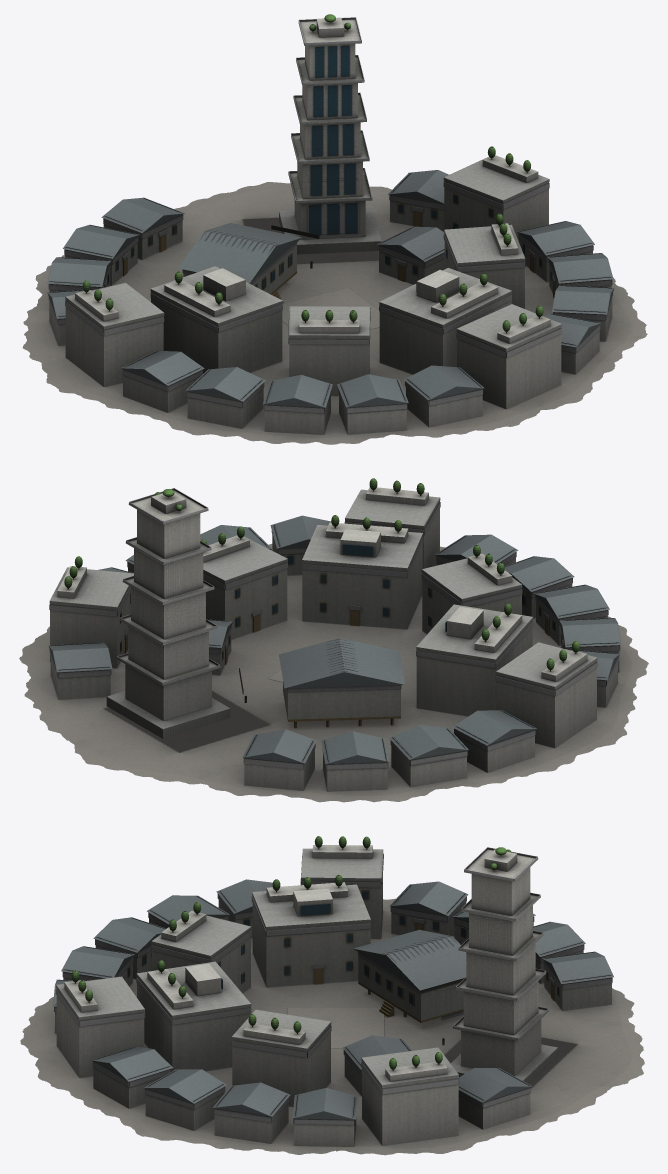
The model's file is modern-town-big-b-monsoon-b72644c4.glb.
The picture shows the model from 3 angles, top to bottom: view 1: azimuth 30°, elevation 25°; view 2: azimuth 150°, elevation 25°; view 3: azimuth 270°, elevation 25°; orthographic projection.
Parts seen in each view (by area): view 1: LOD0; view 2: LOD0; view 3: LOD0.
Part boxes in pixels (left/top/right/bottom): LOD0: left=22, top=14, right=647, bottom=444; LOD0: left=19, top=478, right=648, bottom=802; LOD0: left=20, top=836, right=644, bottom=1155.
Size of what is drawn, in the model's own units: 7.95 by 3.07 by 8.01.
Materials: 3 (3 with a texture image).
